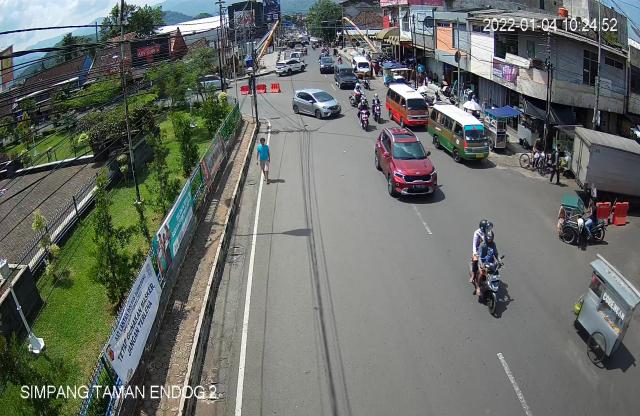Becak: (553, 182, 608, 252)
Mobil: (371, 123, 440, 203), (429, 99, 495, 170), (383, 81, 432, 132), (291, 87, 343, 123)
Motor: (466, 215, 506, 323), (369, 93, 388, 126), (359, 99, 371, 131)
Truk: (567, 123, 640, 213)
